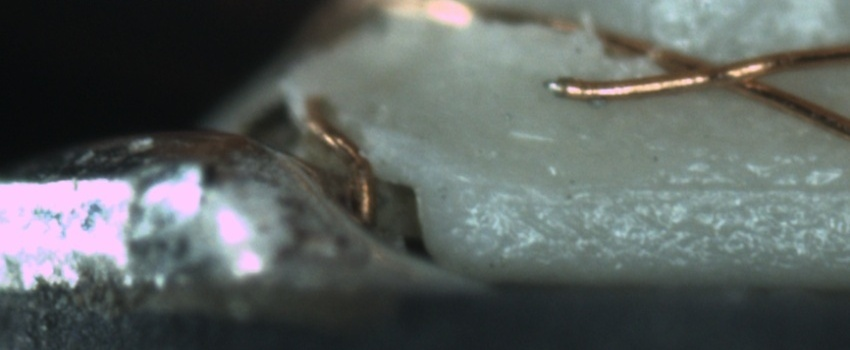CL: (639, 45, 791, 97)
DL: (524, 155, 849, 214)
